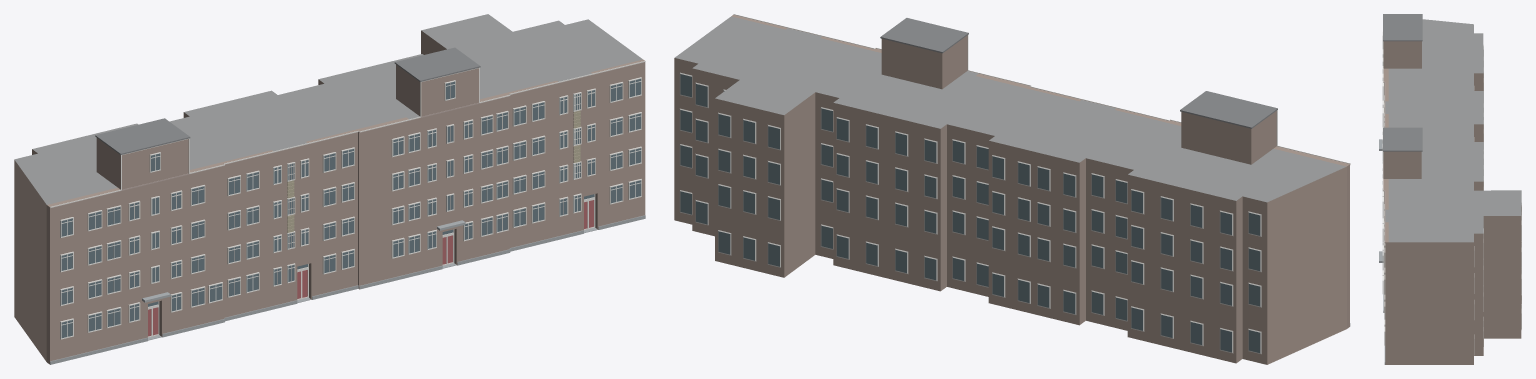
The model's file is chunk-face-luthuli-6-20.glb.
The picture shows the model from 3 angles, left to right: view 1: azimuth 30°, elevation 25°; view 2: azimuth 150°, elevation 25°; view 3: azimuth 270°, elevation 25°; orthographic projection. The views are drawn at different scales.
Visible parts, largest first — view 1: face-luthuli-6-20; view 2: face-luthuli-6-20; view 3: face-luthuli-6-20.
Part boxes in pixels (<box>): face-luthuli-6-20: <box>14,14,645,364</box>; face-luthuli-6-20: <box>674,14,1350,364</box>; face-luthuli-6-20: <box>1379,14,1521,364</box>.
Size of the model in its own units: 56.49 by 17.57 by 15.04.
